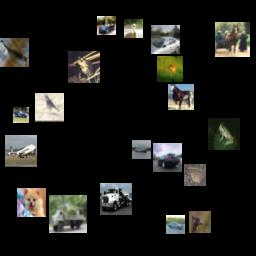airplane: (5, 135, 37, 167)
automobile: (151, 25, 180, 54), (153, 143, 182, 172), (97, 16, 116, 35), (166, 215, 185, 234), (13, 107, 29, 123)
bird: (35, 93, 64, 122), (189, 211, 211, 233), (124, 19, 143, 38)
cat: (0, 38, 29, 67)
deer: (157, 56, 183, 82)
dog: (17, 188, 46, 217)
frog: (68, 51, 100, 83), (208, 118, 240, 150), (184, 164, 206, 186)
ship: (132, 140, 151, 159)
truck: (49, 195, 87, 233), (100, 183, 132, 215)
